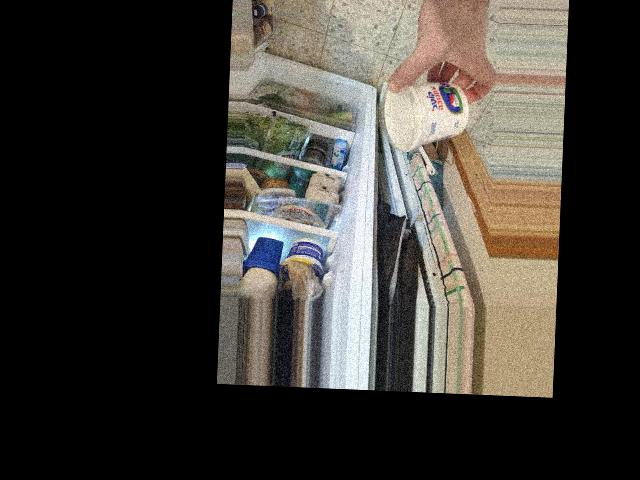cotage: (384, 72, 473, 152)
